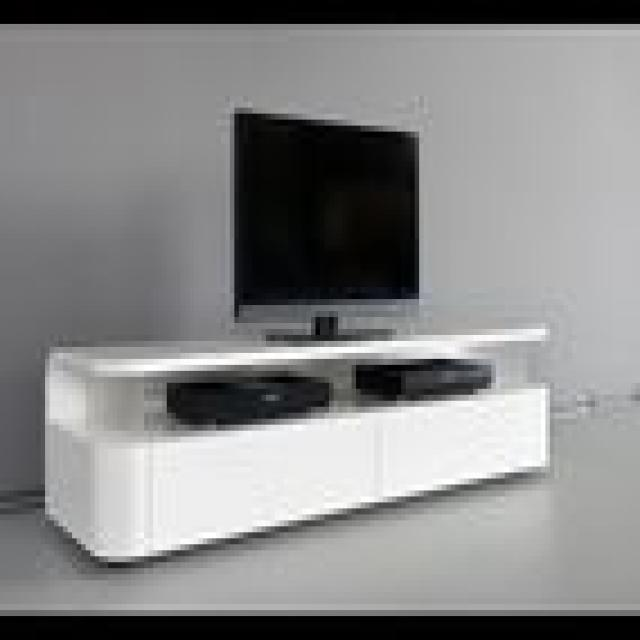others: (225, 90, 438, 323)
